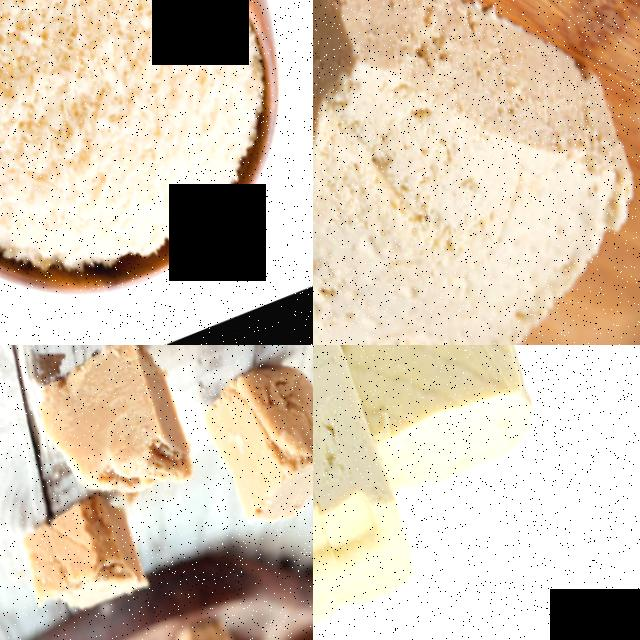tofu: (313, 0, 640, 345), (324, 345, 561, 501), (14, 345, 206, 520), (5, 480, 162, 636), (189, 345, 313, 536), (313, 345, 419, 556), (313, 347, 349, 584)
white rice: (0, 0, 313, 327)
